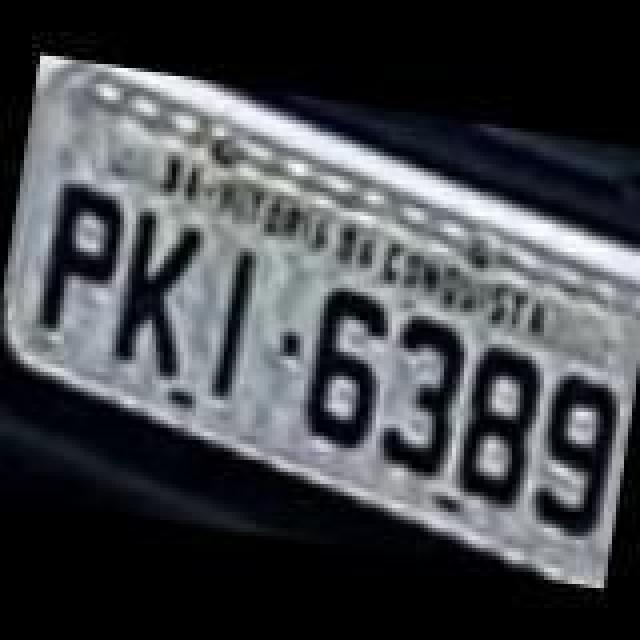1: (204, 238, 260, 402)
3: (370, 302, 470, 482)
6: (294, 282, 394, 454)
8: (448, 338, 544, 510)
9: (524, 370, 628, 542)
K: (110, 206, 210, 386)
P: (30, 182, 130, 346)
